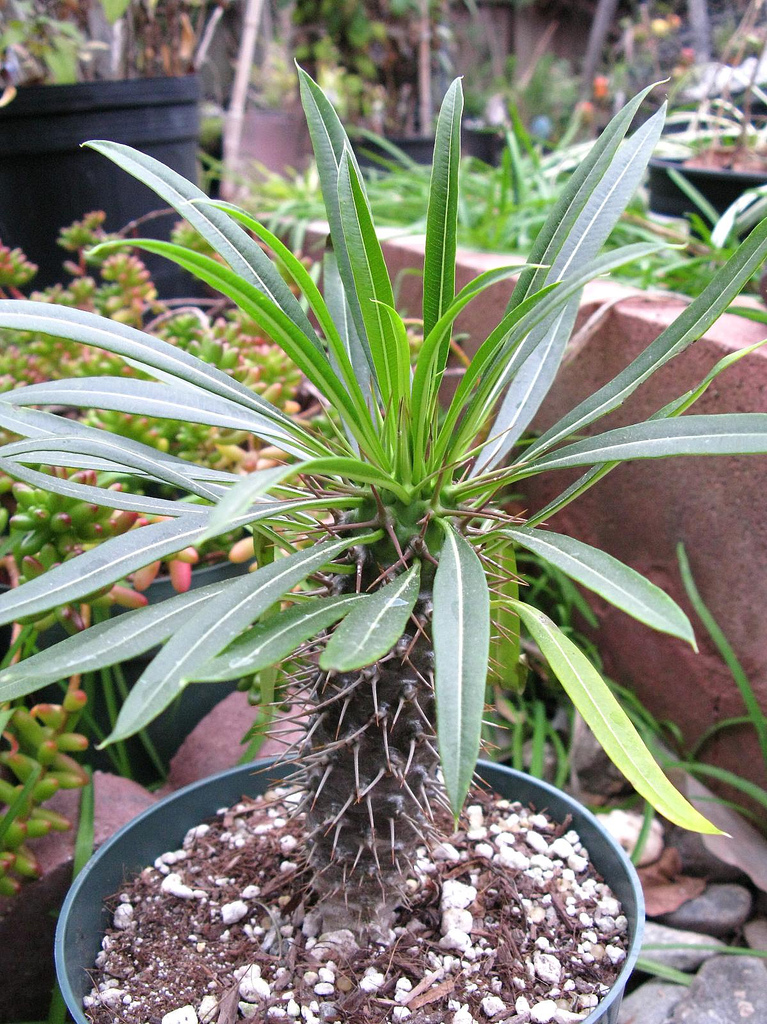Pachypodium lamerei Drake: (134, 122, 618, 947)
